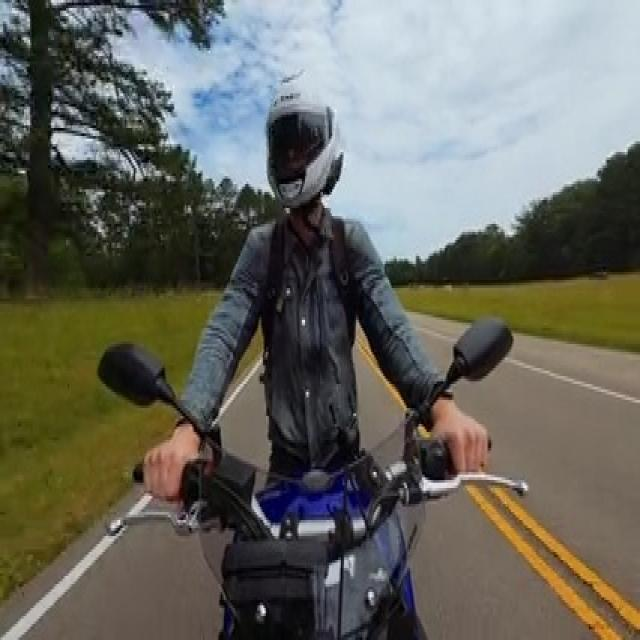Helmet_Wearer: (258, 74, 347, 223)
Person: (179, 75, 488, 496)
